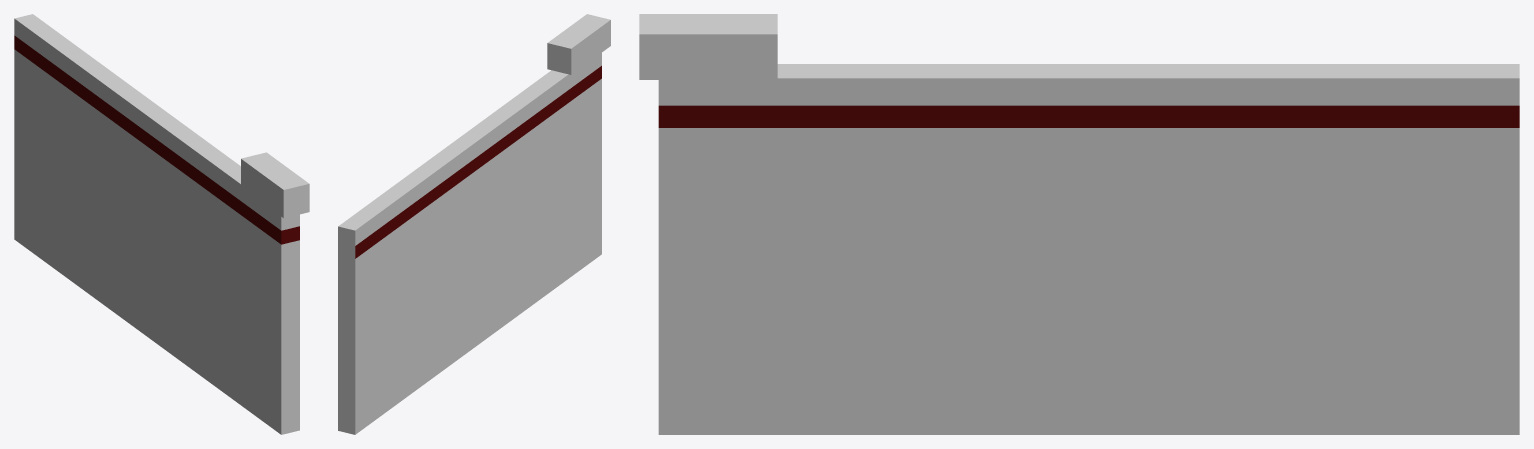
File: wall.glb
The picture shows the model from 3 angles, left to right: view 1: azimuth 30°, elevation 25°; view 2: azimuth 150°, elevation 25°; view 3: azimuth 270°, elevation 25°; orthographic projection. The views are drawn at different scales.
Parts seen in each view (by area): view 1: Cube; view 2: Cube; view 3: Cube.
Part boxes in pixels (x1=…): Cube: x1=14, y1=14, x2=309, y2=434; Cube: x1=338, y1=14, x2=610, y2=434; Cube: x1=639, y1=14, x2=1519, y2=434.
Size of the model in its own units: 0.9632 by 8.95 by 17.71.
